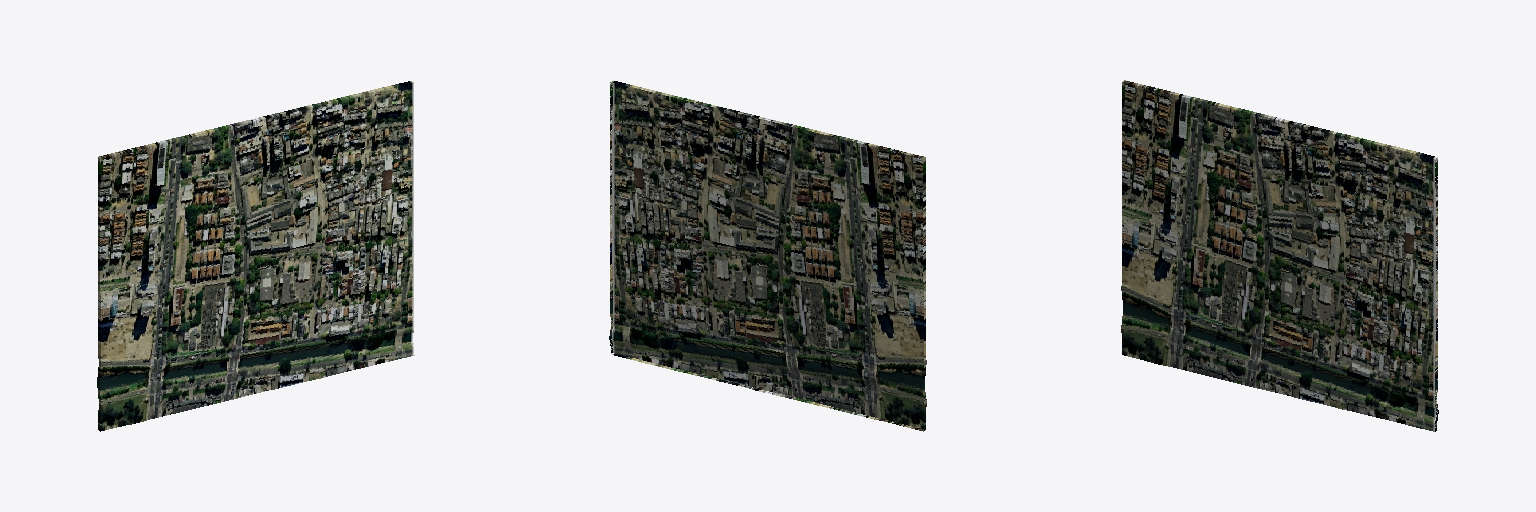
3 views of the same model, side by side, from view 1: azimuth 30°, elevation 25°; view 2: azimuth 150°, elevation 25°; view 3: azimuth 330°, elevation 25° (orthographic).
Visible parts, largest first — view 1: novo3_L0_X0_Y0_subtile.osg_TerrainTile_MatrixTransform__Geo.000; view 2: novo3_L0_X0_Y0_subtile.osg_TerrainTile_MatrixTransform__Geo.000; view 3: novo3_L0_X0_Y0_subtile.osg_TerrainTile_MatrixTransform__Geo.000.
Boxes of the visible parts, x1,y1,x2,y2 form: novo3_L0_X0_Y0_subtile.osg_TerrainTile_MatrixTransform__Geo.000: [97, 81, 414, 431]; novo3_L0_X0_Y0_subtile.osg_TerrainTile_MatrixTransform__Geo.000: [609, 80, 926, 431]; novo3_L0_X0_Y0_subtile.osg_TerrainTile_MatrixTransform__Geo.000: [1121, 80, 1438, 431].
Size of the model in its own units: 670 by 558 by 13.49.
1 materials, 1 textured.